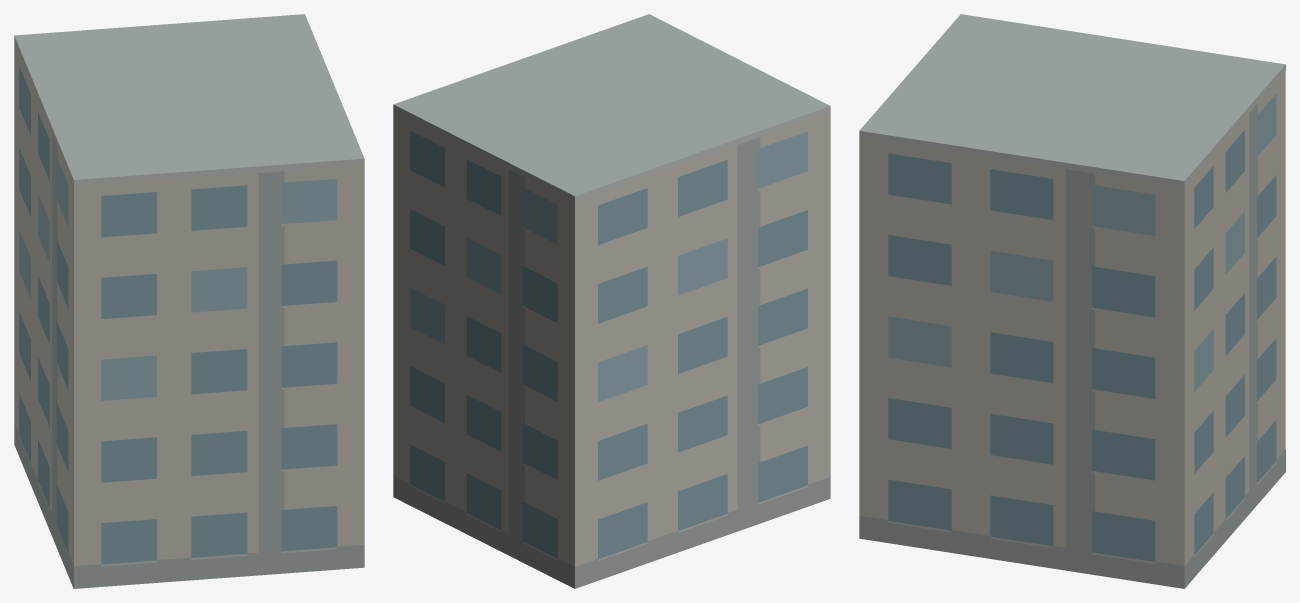
Rendered from residential-9a85e377-b864-4cb1-ad4f-13850a69ff39.glb.
3 renders of one model, left to right at view 1: azimuth 30°, elevation 25°; view 2: azimuth 150°, elevation 25°; view 3: azimuth 270°, elevation 25°, orthographic. The views are drawn at different scales.
Parts seen in each view (by area): view 1: residential-9a85e377-b864-4cb1-ad4f-13850a69ff39.tmp; view 2: residential-9a85e377-b864-4cb1-ad4f-13850a69ff39.tmp; view 3: residential-9a85e377-b864-4cb1-ad4f-13850a69ff39.tmp.
Part boxes in pixels (left/top/right/bottom): residential-9a85e377-b864-4cb1-ad4f-13850a69ff39.tmp: left=14, top=14, right=364, bottom=588; residential-9a85e377-b864-4cb1-ad4f-13850a69ff39.tmp: left=393, top=14, right=830, bottom=588; residential-9a85e377-b864-4cb1-ad4f-13850a69ff39.tmp: left=859, top=14, right=1285, bottom=588.
Bounding box in the file's own units: 13.41 × 15.25 × 14.46.
